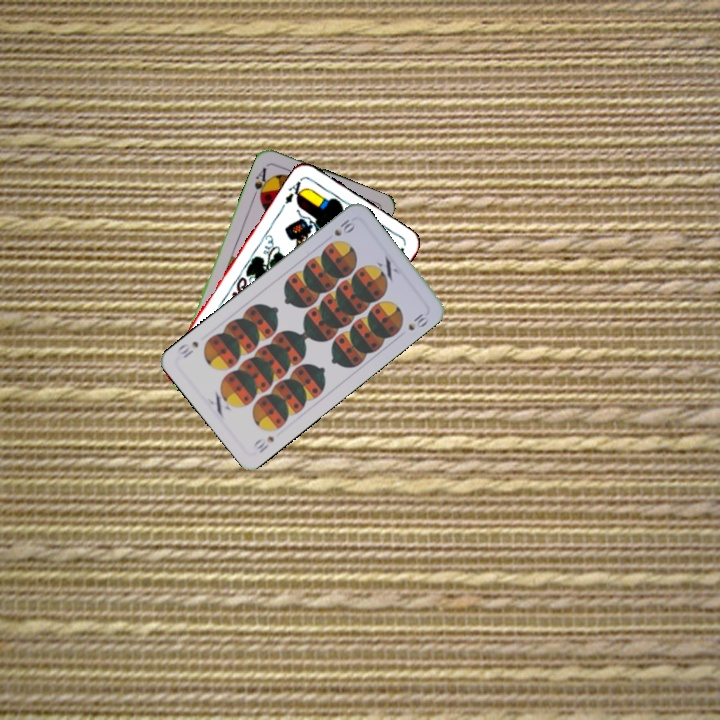EA: (281, 174, 309, 207)
S10: (330, 215, 358, 239), (249, 432, 277, 456)
SA: (249, 163, 272, 202)
